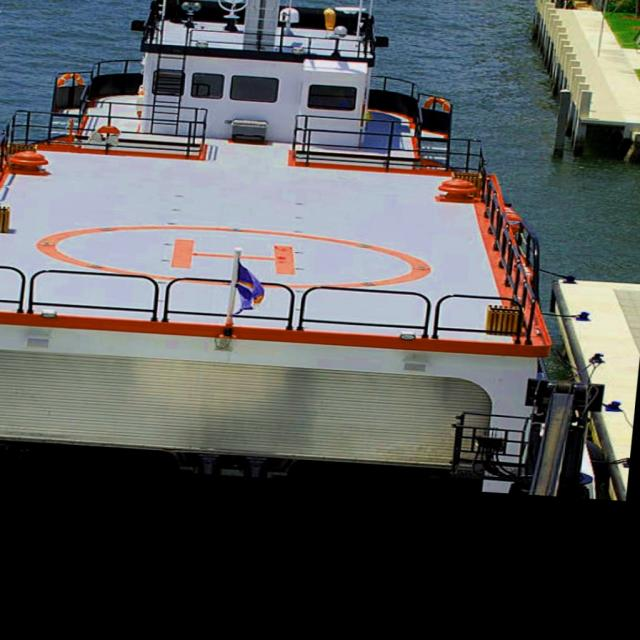helipad: (33, 217, 439, 301)
